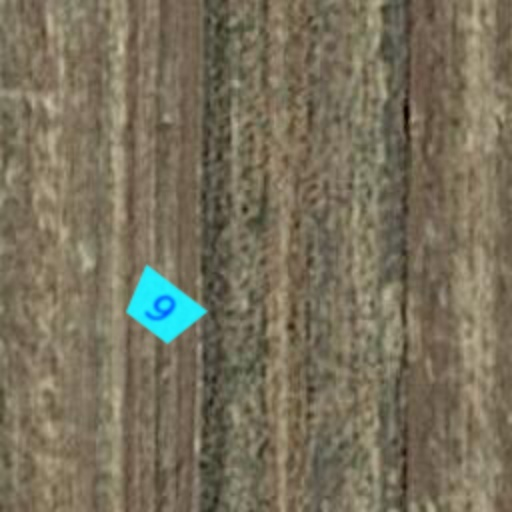trapezoid: (106, 252, 218, 364)
